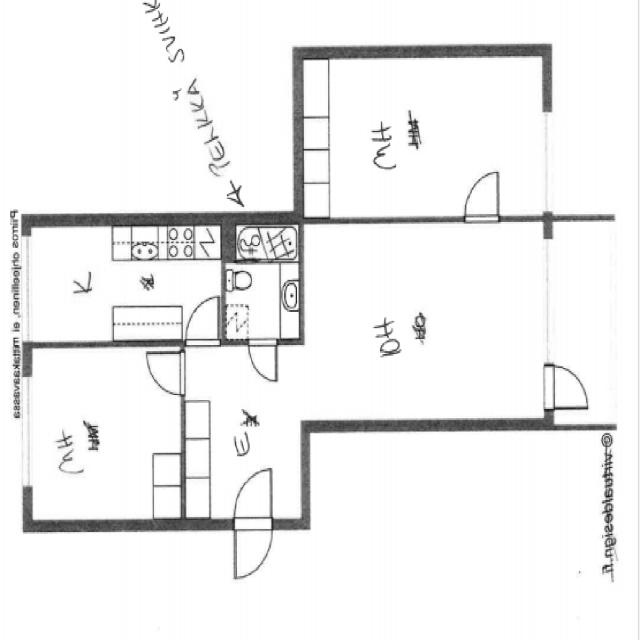door: (230, 464, 276, 580), (534, 356, 597, 413), (462, 166, 506, 226), (143, 344, 186, 398), (184, 292, 222, 346), (246, 336, 281, 384)
window: (536, 222, 561, 370), (12, 362, 39, 499), (533, 99, 560, 219), (14, 228, 38, 346)
zone: (294, 220, 549, 428), (298, 52, 542, 223), (20, 342, 191, 522), (23, 220, 227, 344), (183, 341, 305, 527), (221, 216, 303, 346)
